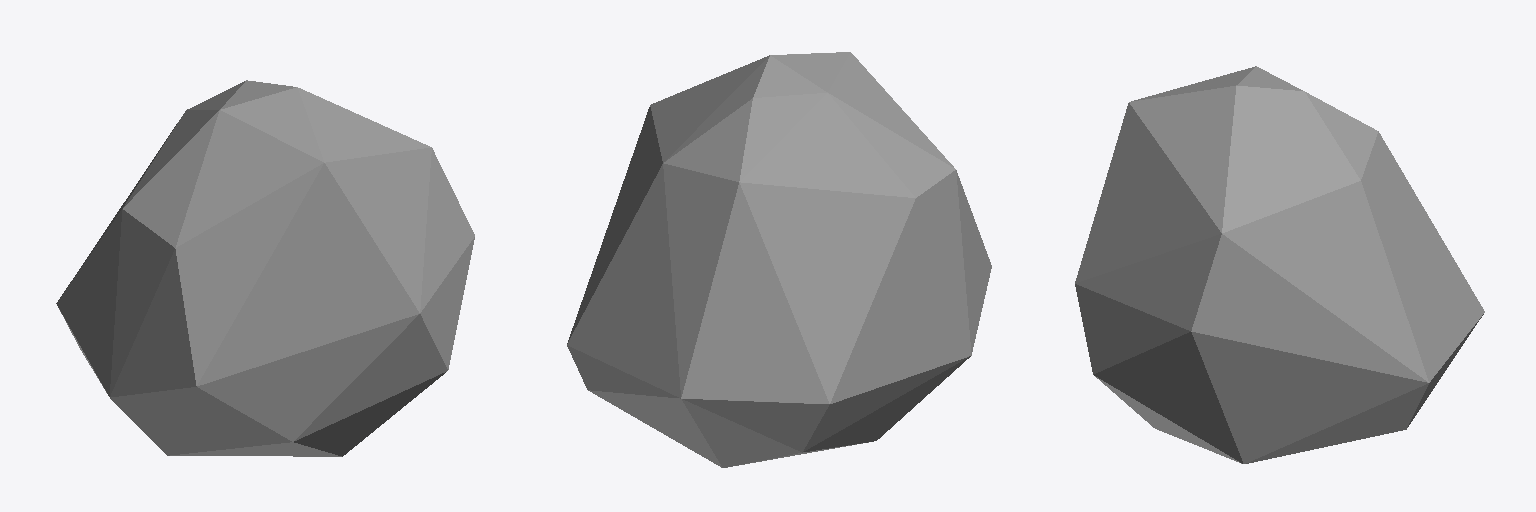
File: Stein2.obj
The picture shows the model from 3 angles: view 1: azimuth 30°, elevation 25°; view 2: azimuth 150°, elevation 25°; view 3: azimuth 270°, elevation 25°; orthographic projection.
Parts seen in each view (by area): view 1: Sphere; view 2: Sphere; view 3: Sphere.
Part boxes in pixels (x1,y1,x2,y2): Sphere: (56,80,474,456); Sphere: (567,52,991,467); Sphere: (1075,66,1484,463).
Size of the model in its own units: 2.6 by 2.56 by 2.64.